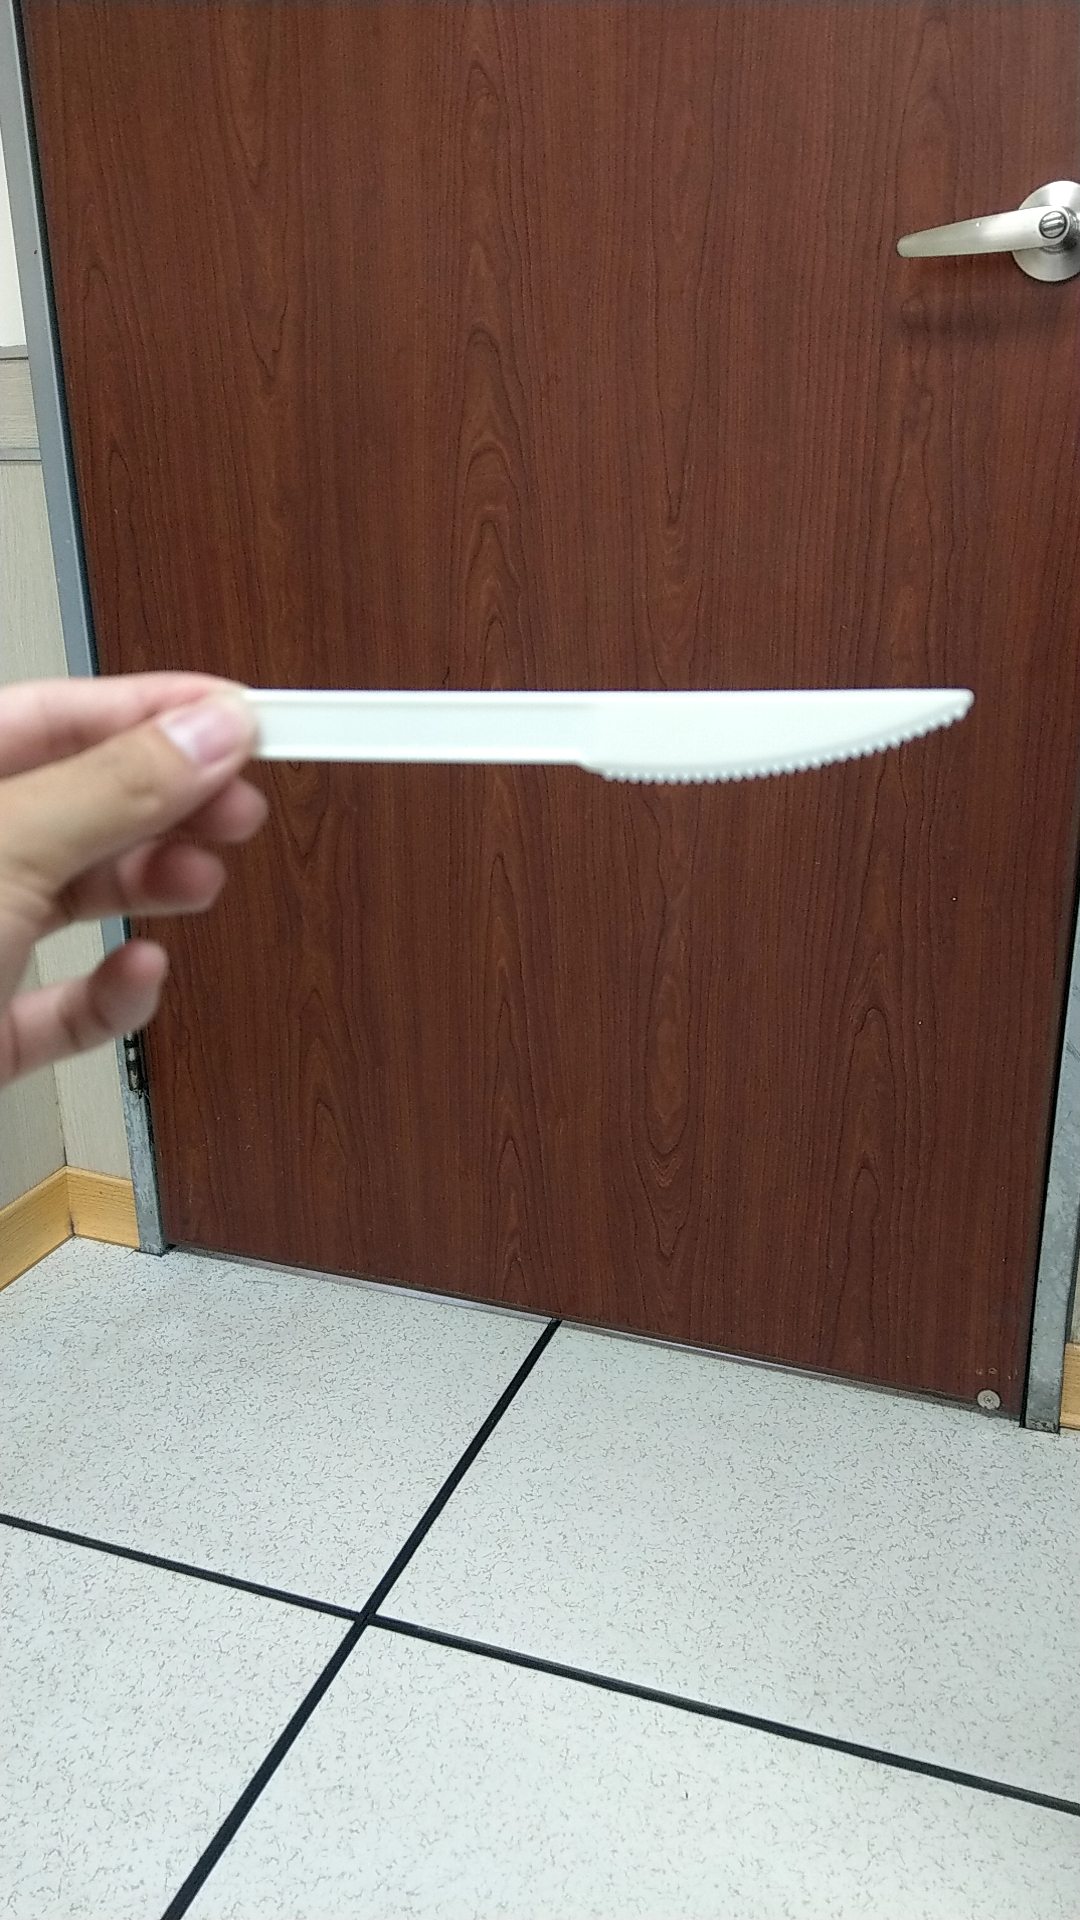knife: (258, 657, 1011, 818)
